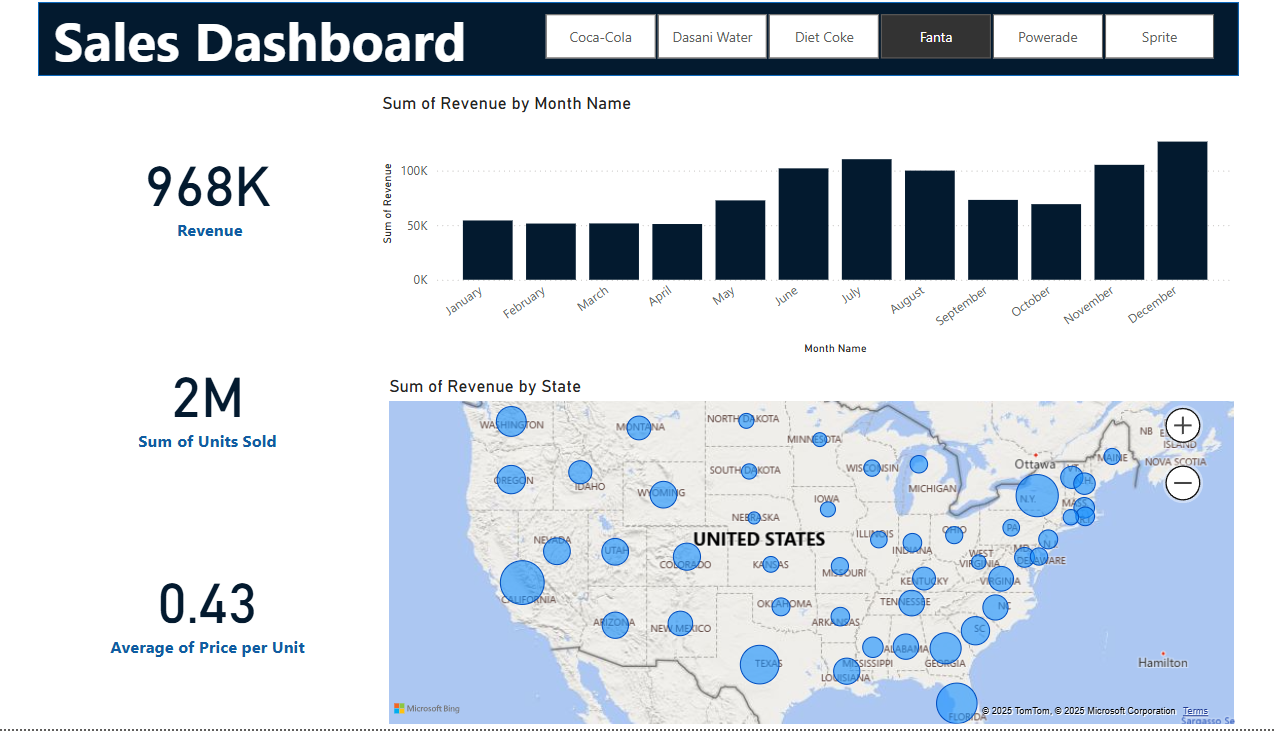

The page's visual inventory and layout, read from the dashboard file:
{"tool":"powerbi","page":{"name":"Page 1","canvas":[1280,720],"ordinal":0},"visuals":[{"type":"shape","box":[53.5,12.6,1168.1,72],"z":0},{"type":"card","fields":{"Values":["Sum(Data.Revenue)"]},"box":[53.5,101.2,329.7,188.7],"z":1},{"type":"card","fields":{"Values":["Sum(Data.Units Sold)"]},"box":[53.5,306.4,329.7,188.7],"z":2},{"type":"card","fields":{"Values":["Avg(Data.Price per Unit)"]},"box":[53.5,506.7,329.7,188.7],"z":3},{"type":"columnChart","fields":{"Y":["Sum(Data.Revenue)"],"Category":["Data.Month Name"]},"box":[383.2,101.2,838.4,258.7],"z":4},{"type":"map","fields":{"Size":["Sum(Data.Revenue)"],"Category":["Data.State"]},"box":[390,376.4,831.6,343.3],"z":5},{"type":"slicer","fields":{"Values":["Data.Beverage Brand"]},"box":[521.3,17.5,700.3,57.4],"z":6}]}

Visuals, with their boxes on the page's 1280x720 design canvas (x1, y1, x2, y2). These are canvas units, not pixel positions in the 1275x744 screenshot, which may show the page scaled, cropped or inside an application window:
shape: <region>54, 13, 1222, 85</region>
card - Sum(Data.Revenue): <region>54, 101, 383, 290</region>
card - Sum(Data.Units Sold): <region>54, 306, 383, 495</region>
card - Avg(Data.Price per Unit): <region>54, 507, 383, 695</region>
columnChart - Sum(Data.Revenue) x Data.Month Name: <region>383, 101, 1222, 360</region>
map - Sum(Data.Revenue) x Data.State: <region>390, 376, 1222, 720</region>
slicer - Data.Beverage Brand: <region>521, 18, 1222, 75</region>
